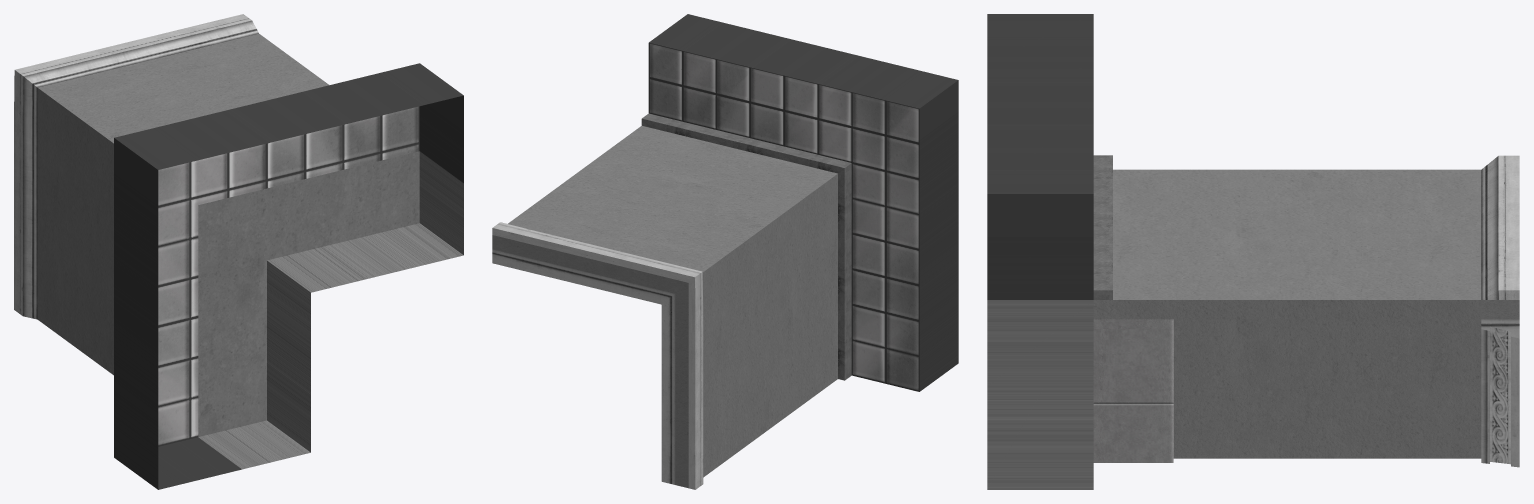
File: A_ground_wall_ 4m_corner_B.fbx
The picture shows the model from 3 angles, left to right: view 1: azimuth 30°, elevation 25°; view 2: azimuth 150°, elevation 25°; view 3: azimuth 270°, elevation 25°; orthographic projection. The views are drawn at different scales.
Visible parts, largest first — view 1: A_ground_wall__4m_corner_B; view 2: A_ground_wall__4m_corner_B; view 3: A_ground_wall__4m_corner_B.
Boxes of the visible parts, x1,y1,x2,y2 form: A_ground_wall__4m_corner_B: (14, 14, 463, 489); A_ground_wall__4m_corner_B: (492, 14, 958, 489); A_ground_wall__4m_corner_B: (987, 14, 1519, 489).
Bounding box in the file's own units: 4 × 4 × 5.
